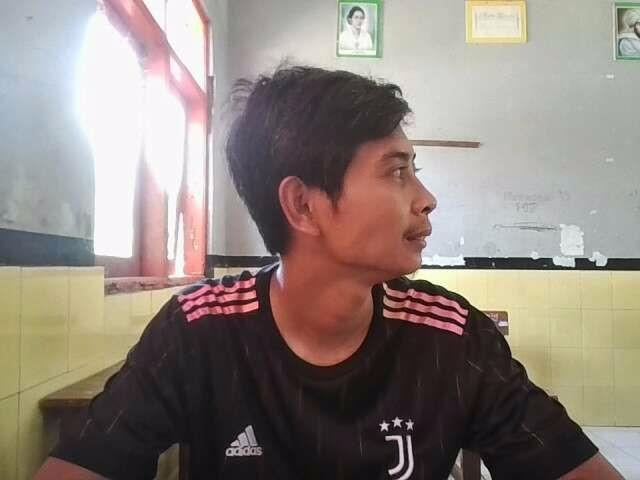cheating: (25, 49, 624, 480)
